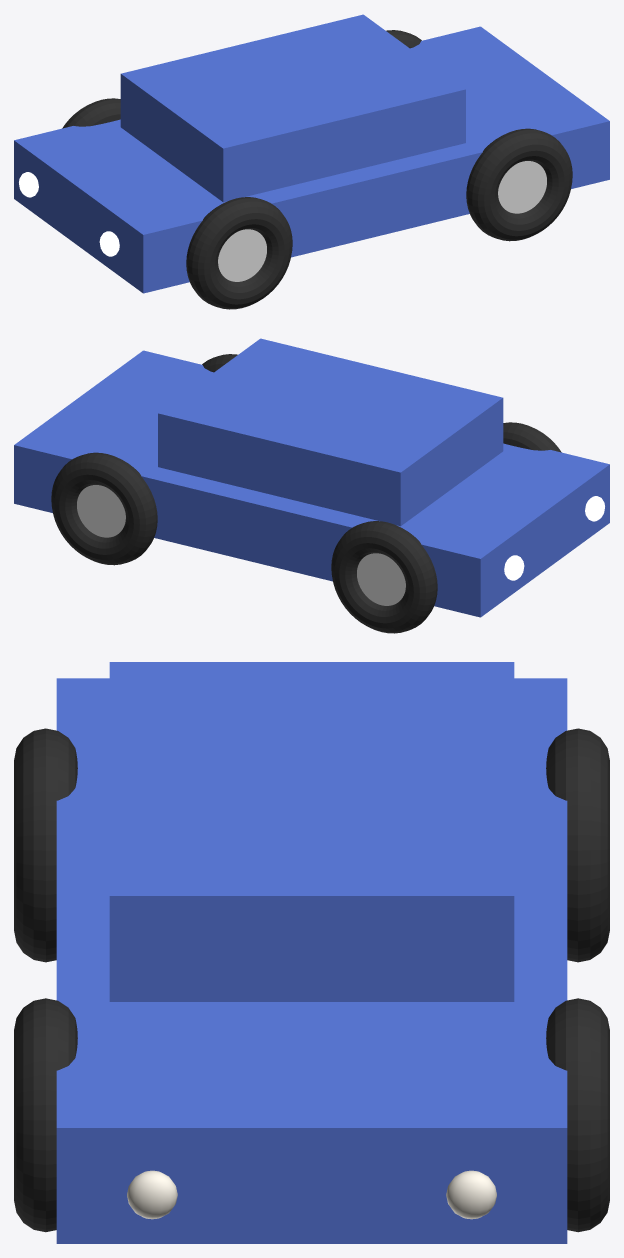
The picture shows the model from 3 angles, top to bottom: view 1: azimuth 30°, elevation 25°; view 2: azimuth 150°, elevation 25°; view 3: azimuth 270°, elevation 25°; orthographic projection. The views are drawn at different scales.
Visible parts, largest first — view 1: SportsCar; view 2: SportsCar; view 3: SportsCar.
Boxes of the visible parts, box(x1,y1,x2,y2) form: SportsCar: box(14, 14, 609, 309); SportsCar: box(14, 338, 609, 633); SportsCar: box(14, 662, 609, 1243).
Bounding box in the file's own units: 5.37 × 1.5 × 2.8.
